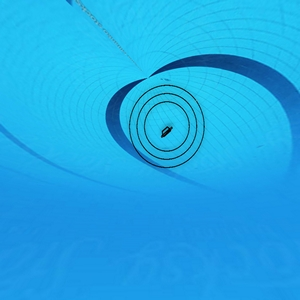circle: (128, 83, 208, 171)
submarine: (159, 126, 174, 138)
